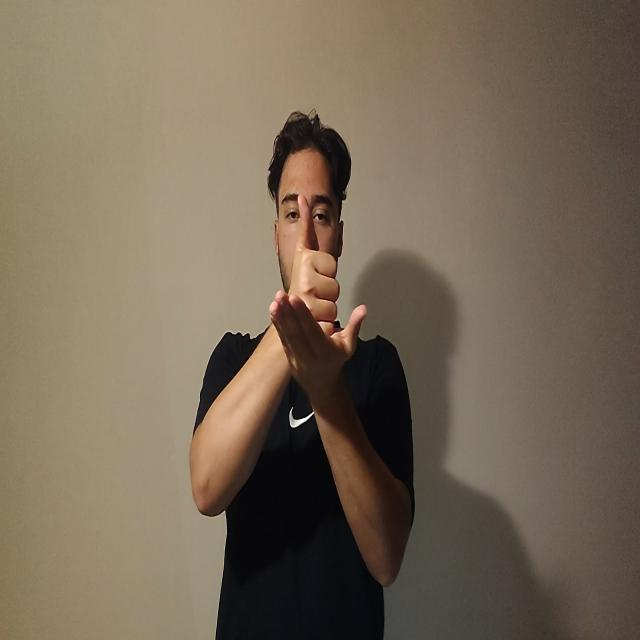help: (269, 194, 365, 391)
